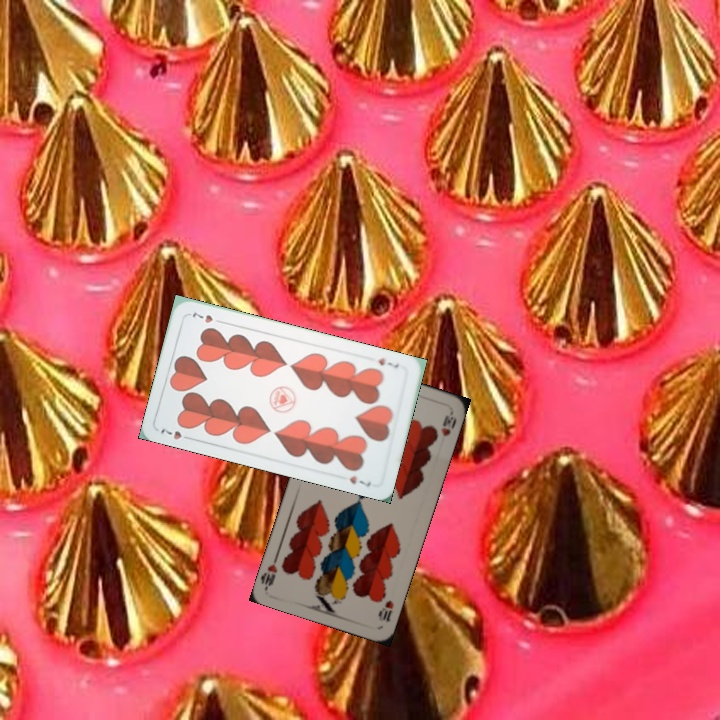H10: (374, 596, 397, 624)
H7: (156, 424, 195, 442), (374, 354, 401, 371)
